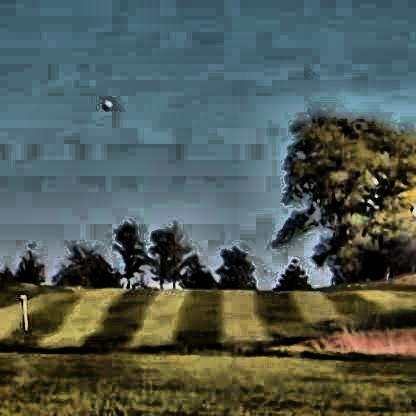golfball: (98, 99, 109, 108)
